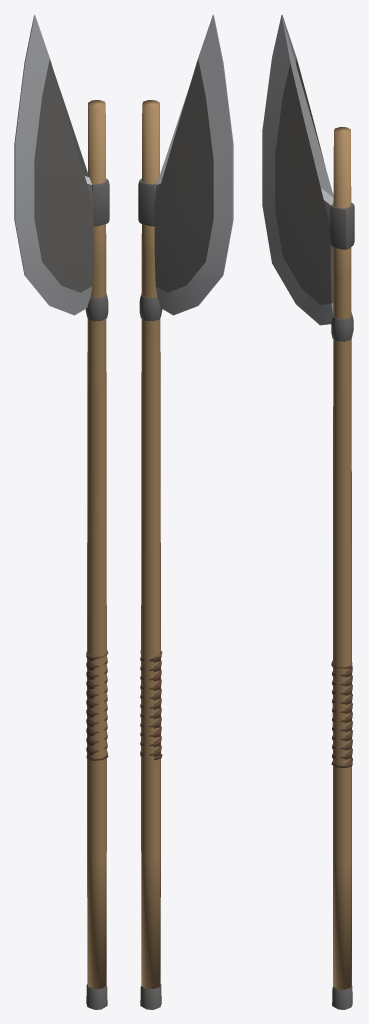
The model's file is bardiche.glb.
The picture shows the model from 3 angles, left to right: view 1: azimuth 30°, elevation 25°; view 2: azimuth 150°, elevation 25°; view 3: azimuth 330°, elevation 25°; orthographic projection. The views are drawn at different scales.
Visible parts, largest first — view 1: bardiche; view 2: bardiche; view 3: bardiche.
Boxes of the visible parts, x1,y1,x2,y2 form: bardiche: (14, 15, 109, 1009); bardiche: (138, 14, 233, 1009); bardiche: (262, 14, 354, 1009).
Bounding box in the file's own units: 0.4678 × 4.87 × 0.104.
